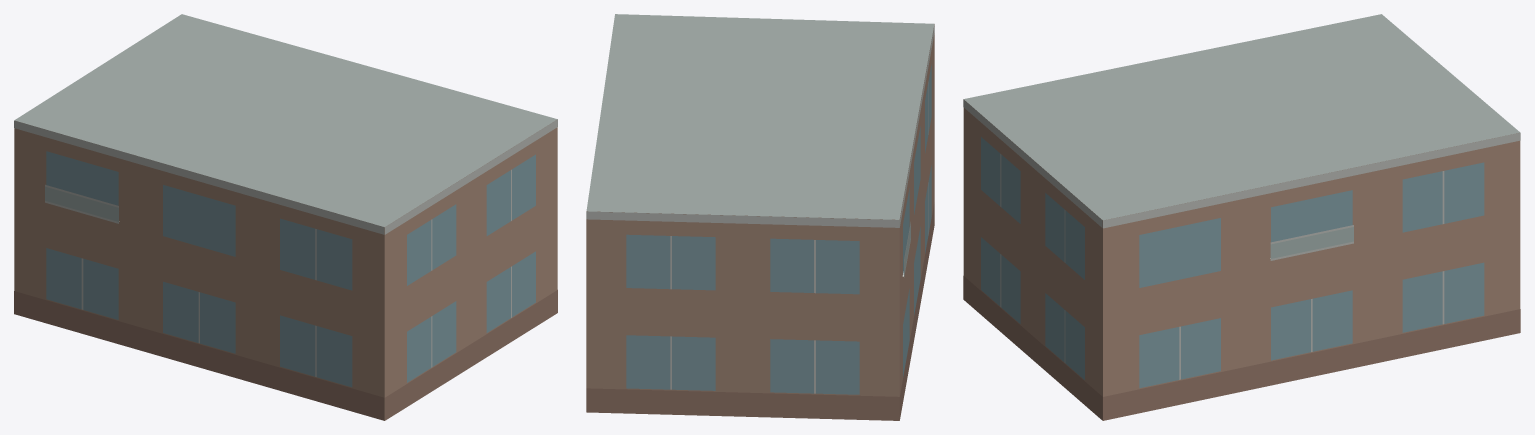
File: survey-upis-32658896.glb
3 renders of one model, left to right at view 1: azimuth 30°, elevation 25°; view 2: azimuth 150°, elevation 25°; view 3: azimuth 270°, elevation 25°, orthographic. The views are drawn at different scales.
Visible parts, largest first — view 1: survey-upis-32658896.tmp; view 2: survey-upis-32658896.tmp; view 3: survey-upis-32658896.tmp.
Boxes of the visible parts, left/top/right/bottom form: survey-upis-32658896.tmp: left=14, top=14, right=557, bottom=420; survey-upis-32658896.tmp: left=586, top=14, right=934, bottom=420; survey-upis-32658896.tmp: left=963, top=14, right=1520, bottom=420.
Bounding box in the file's own units: 13.49 × 6.1 × 15.38.
